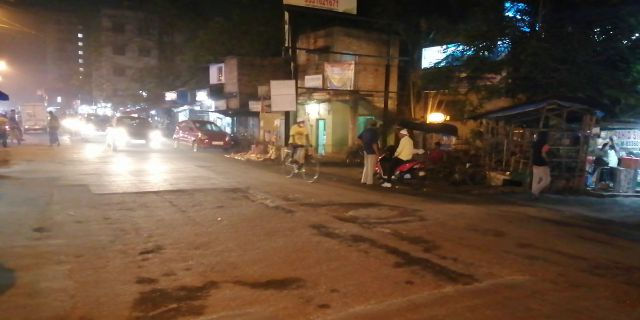Car: (112, 114, 164, 155), (177, 119, 239, 150)
Cycle: (280, 116, 322, 181)
Motorbike: (372, 126, 425, 196)
